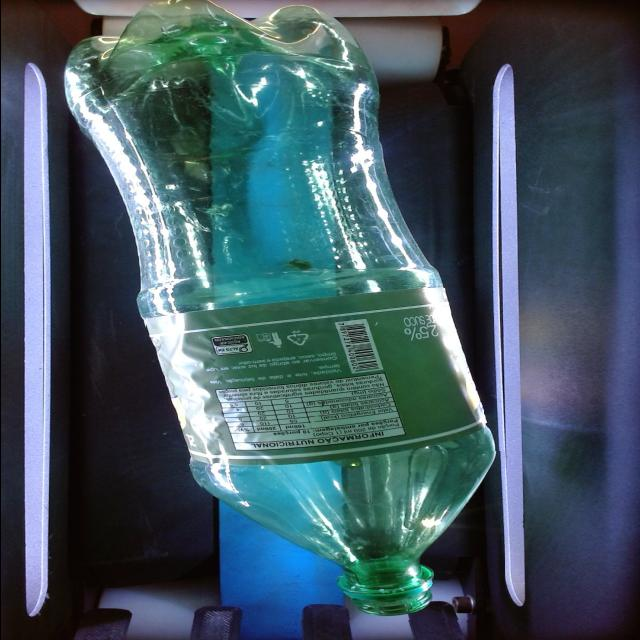bottom: (54, 0, 378, 129)
code: (334, 320, 380, 373)
label: (145, 289, 483, 464)
neck: (201, 452, 503, 620)
